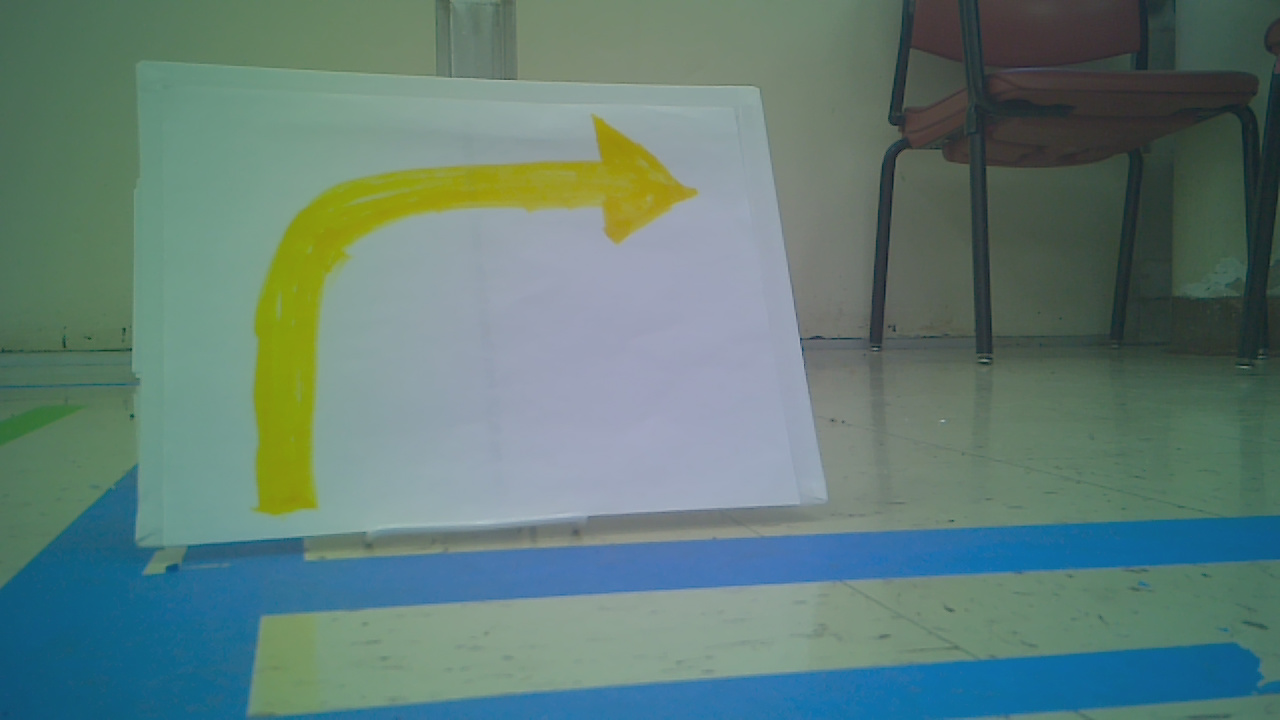right: (251, 112, 705, 513)
